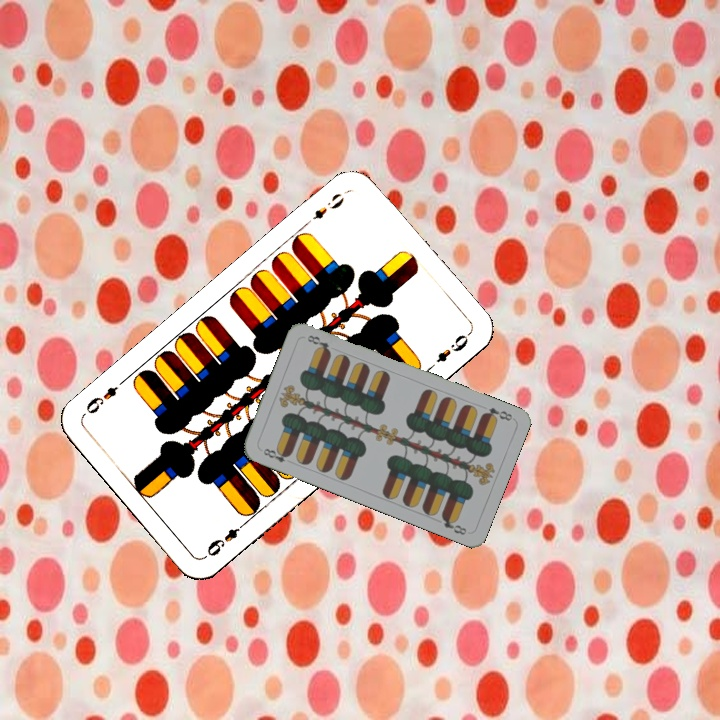E8: (478, 403, 515, 424), (259, 444, 293, 465)
E9: (203, 517, 250, 559), (308, 189, 347, 223)
